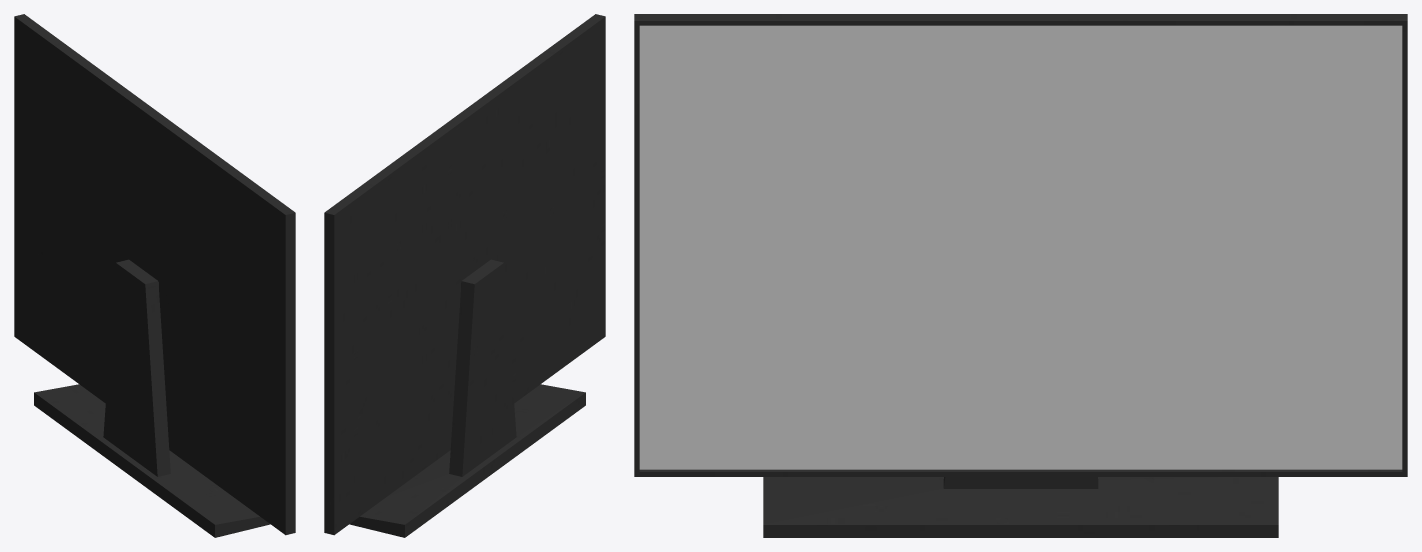
The picture shows the model from 3 angles, left to right: view 1: azimuth 30°, elevation 25°; view 2: azimuth 150°, elevation 25°; view 3: azimuth 270°, elevation 25°; orthographic projection. The views are drawn at different scales.
Parts seen in each view (by area): view 1: tv; view 2: tv; view 3: tv.
Boxes of the visible parts, <box> form: tv: <box>14,14,295,537</box>; tv: <box>324,14,605,537</box>; tv: <box>634,14,1407,537</box>.
Size of the model in its own units: 0.13 by 0.6932 by 0.975.
Materials: 2 (1 with a texture image).
